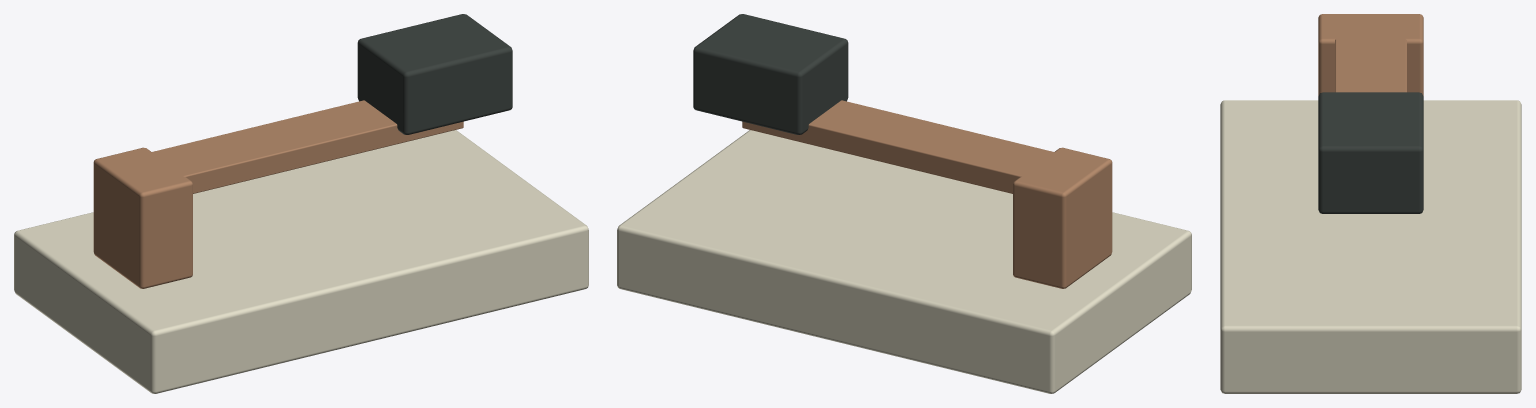
File: off-grid-power-and-controls-knife-switch-3433ae39__3007.glb
3 views of the same model, side by side, from view 1: azimuth 30°, elevation 25°; view 2: azimuth 150°, elevation 25°; view 3: azimuth 270°, elevation 25° (orthographic). The views are drawn at different scales.
Parts seen in each view (by area): view 1: knife-switch, knife/clay; view 2: knife-switch, knife/clay; view 3: knife-switch, knife/clay.
Part boxes in pixels (box(x1,y1,x2,y2)): knife-switch: box(14, 14, 588, 393); knife/clay: box(151, 100, 463, 193); knife-switch: box(617, 14, 1191, 393); knife/clay: box(742, 100, 1054, 193); knife-switch: box(1220, 14, 1521, 393); knife/clay: box(1335, 38, 1406, 92).
Bounding box in the file's own units: 0.18 × 0.085 × 0.1.
